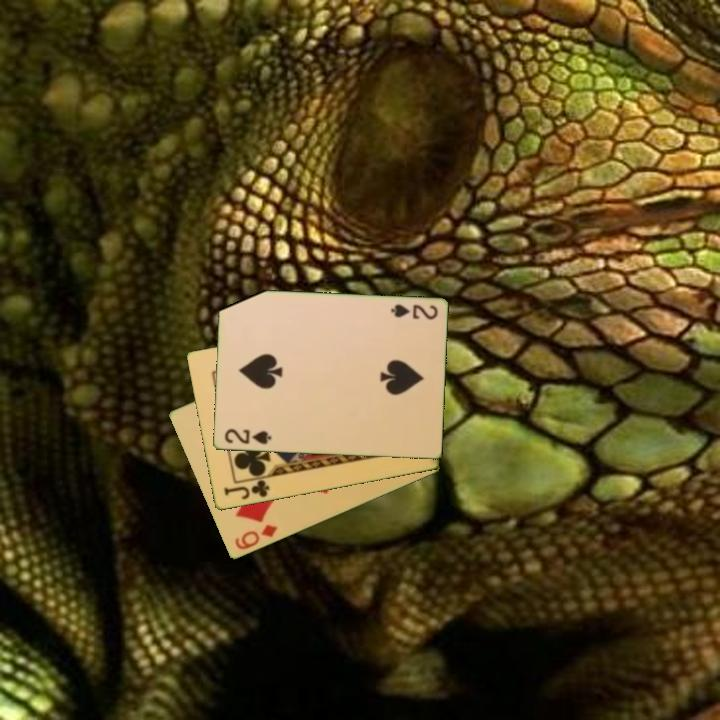2s: (221, 425, 274, 447), (387, 301, 440, 323)
6d: (231, 521, 280, 553)
Jc: (220, 476, 272, 503)
